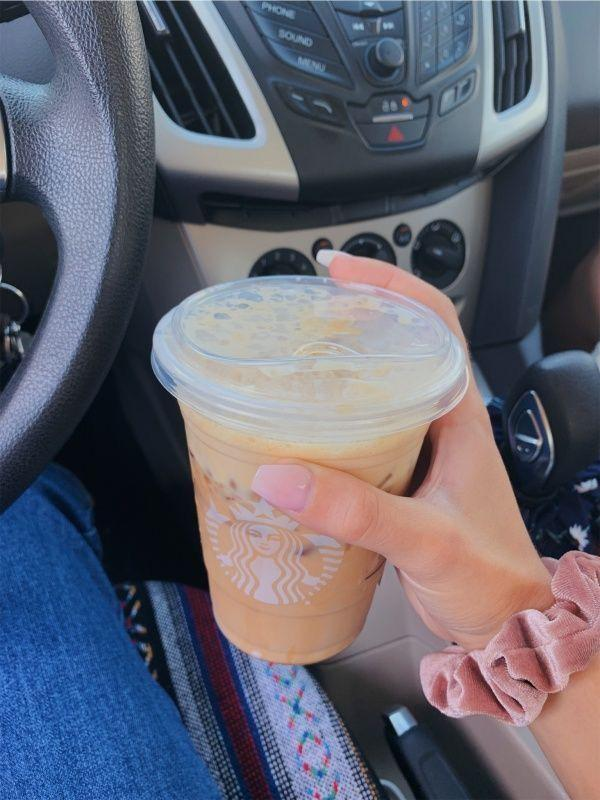cup-disposable: (153, 270, 471, 670)
